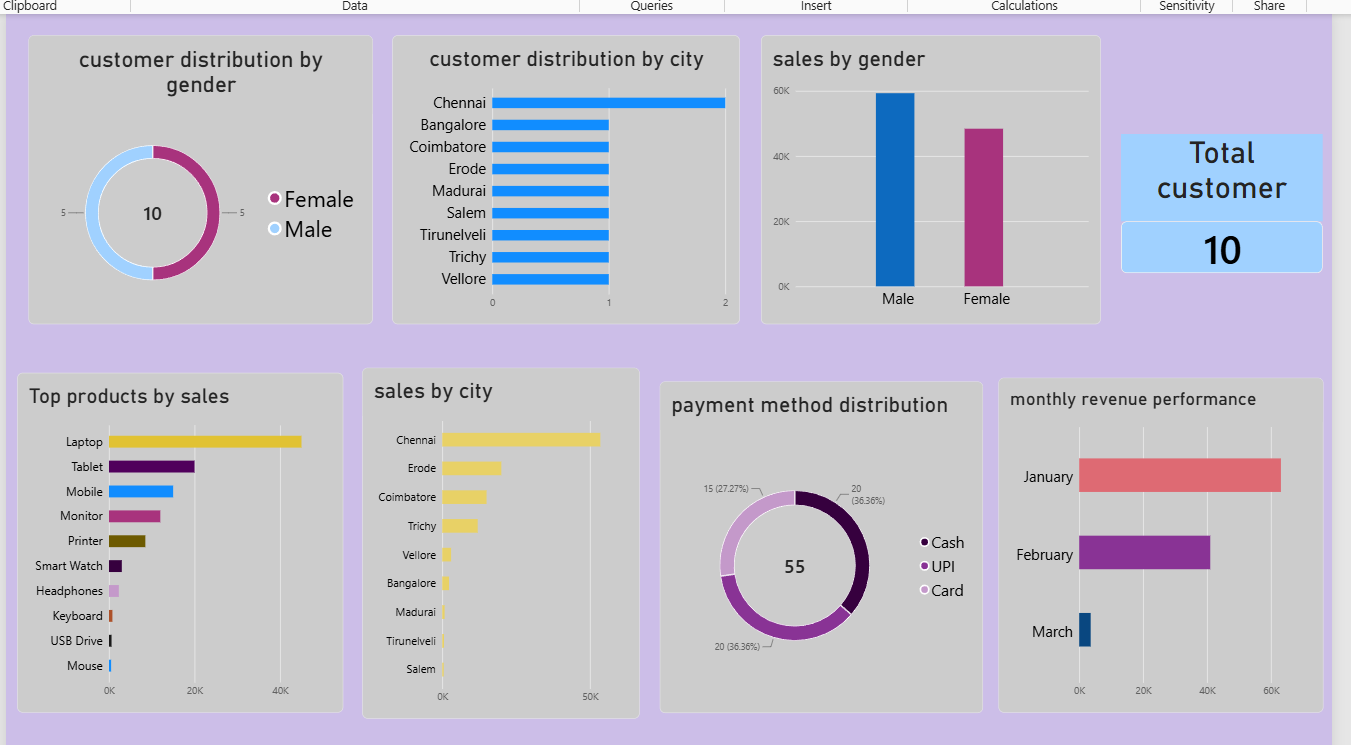

Layout of this report page (visuals, bound fields, positions):
{"tool":"powerbi","page":{"name":"Page 1","canvas":[1920,1080],"ordinal":0},"visuals":[{"type":"cardVisual","title":"Total customer","fields":{"Data":["CountNonNull(enterprise_db customers.customer_id)"]},"box":[1615,173.3,292.3,201.7],"z":0},{"type":"donutChart","title":"customer distribution by gender","fields":{"Category":["enterprise_db customers.gender"],"Y":["CountNonNull(enterprise_db customers.customer_id)"]},"box":[32,30,498,418],"z":1},{"type":"clusteredBarChart","title":"customer distribution by city","fields":{"Category":["enterprise_db customers.city"],"Y":["CountNonNull(enterprise_db customers.customer_id)"]},"box":[558.3,30,503.3,418.3],"z":3},{"type":"clusteredColumnChart","title":"sales by gender","fields":{"Category":["enterprise_db customers.gender"],"Y":["Sum(enterprise_db orders.total_amount)"]},"box":[1093.3,30,491.7,418.3],"z":4},{"type":"clusteredBarChart","title":"Top products by sales","fields":{"Category":["enterprise_db products.product_name"],"Y":["Sum(enterprise_db orders.total_amount)"]},"box":[16.7,520,471.7,491.7],"z":5},{"type":"donutChart","title":"payment method distribution","fields":{"Category":["enterprise_db payments.payment_method"],"Y":["Sum(enterprise_db payments.payment_id)"]},"box":[946.7,531.7,468.3,480],"z":6},{"type":"clusteredBarChart","title":"sales by city","fields":{"Category":["enterprise_db customers.city"],"Y":["Sum(enterprise_db orders.total_amount)"]},"box":[515,511.7,401.7,508.3],"z":7},{"type":"clusteredBarChart","title":"monthly revenue performance","fields":{"Category":["enterprise_db orders.order_date.Variation.Date Hierarchy.Month"],"Y":["Sum(enterprise_db orders.total_amount)"]},"box":[1436.7,526.7,470,485],"z":8}]}

Visuals, with their boxes on the page's 1920x1080 design canvas (x1, y1, x2, y2). These are canvas units, not pixel positions in the 1351x745 screenshot, which may show the page scaled, cropped or inside an application window:
"Total customer" cardVisual: (x1=1615, y1=173, x2=1907, y2=375)
"customer distribution by gender" donutChart: (x1=32, y1=30, x2=530, y2=448)
"customer distribution by city" clusteredBarChart: (x1=558, y1=30, x2=1062, y2=448)
"sales by gender" clusteredColumnChart: (x1=1093, y1=30, x2=1585, y2=448)
"Top products by sales" clusteredBarChart: (x1=17, y1=520, x2=488, y2=1012)
"payment method distribution" donutChart: (x1=947, y1=532, x2=1415, y2=1012)
"sales by city" clusteredBarChart: (x1=515, y1=512, x2=917, y2=1020)
"monthly revenue performance" clusteredBarChart: (x1=1437, y1=527, x2=1907, y2=1012)
